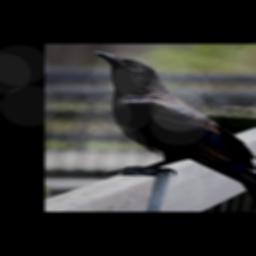Crow: (93, 50, 256, 208)
